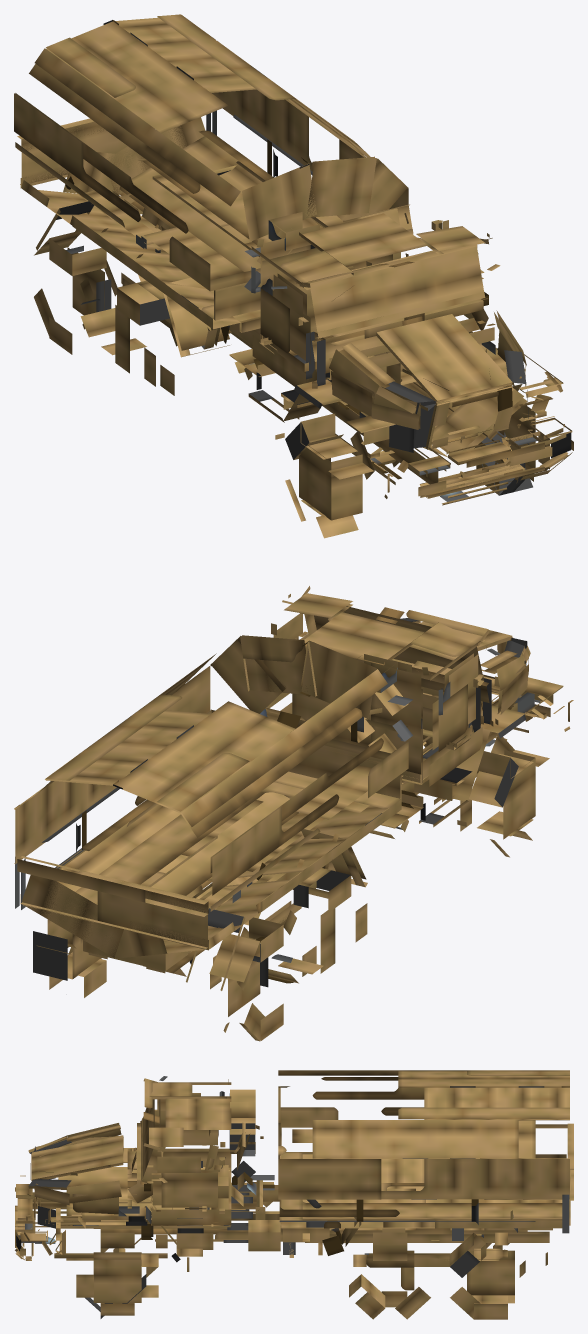
Rendered from tornadou.obj.
The picture shows the model from 3 angles, top to bottom: view 1: azimuth 30°, elevation 25°; view 2: azimuth 150°, elevation 25°; view 3: azimuth 270°, elevation 25°; orthographic projection. The views are drawn at different scales.
Visible parts, largest first — view 1: body, w4, w6, w5, w1; view 2: body, w6, w4, w5, w3; view 3: body, w1, w3, w2.
Boxes of the visible parts, x1,y1,x2,y2 form: body: (14, 14, 573, 505); w4: (285, 413, 374, 538); w6: (34, 231, 117, 354); w5: (101, 280, 174, 395); w1: (476, 405, 549, 495); body: (14, 586, 573, 990); w6: (209, 917, 298, 1041); w4: (460, 734, 549, 857); w5: (278, 868, 367, 976); w3: (33, 919, 106, 997); body: (15, 1070, 573, 1271); w1: (76, 1232, 158, 1318); w3: (449, 1232, 525, 1319); w2: (349, 1232, 430, 1319).
Bounding box in the file's own units: 3.48 × 3.81 × 9.91.
